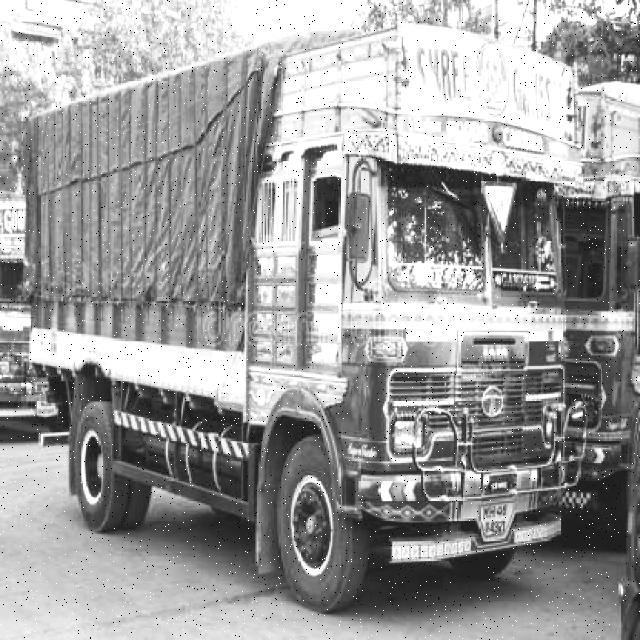HCV: (39, 58, 583, 551), (1, 194, 67, 433)
